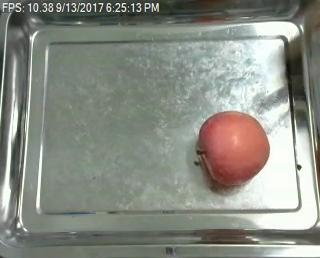apple: (196, 111, 271, 186)
